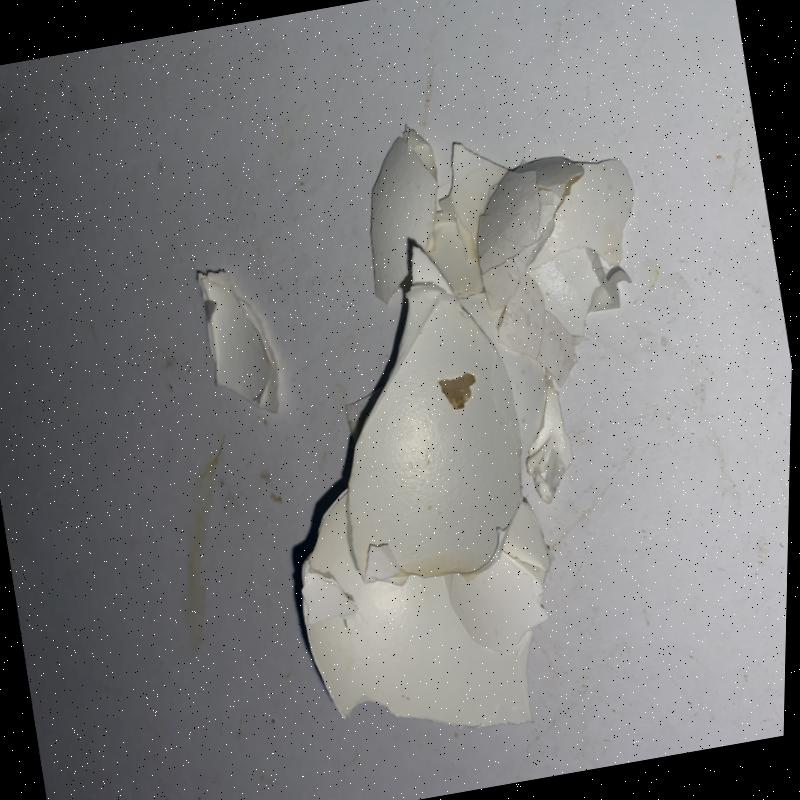egg shell: (424, 141, 633, 500), (346, 246, 522, 583), (302, 494, 537, 725), (445, 504, 553, 646), (195, 269, 285, 410), (369, 129, 437, 301)
